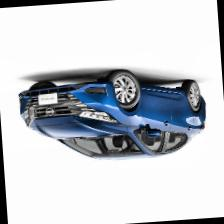NON-EV: (18, 64, 212, 167)
